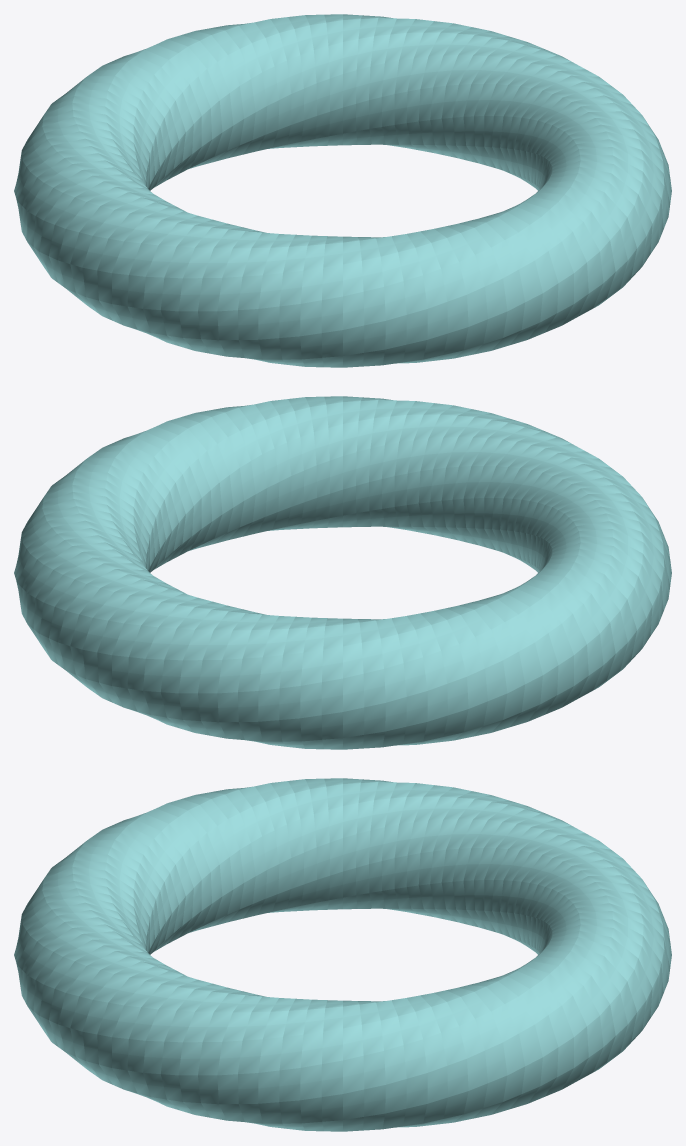
Rendered from TwistedTorus.gltf.
The picture shows the model from 3 angles, top to bottom: view 1: azimuth 30°, elevation 25°; view 2: azimuth 150°, elevation 25°; view 3: azimuth 270°, elevation 25°; orthographic projection.
Visible parts, largest first — view 1: TwistedTorus; view 2: TwistedTorus; view 3: TwistedTorus.
Boxes of the visible parts, x1,y1,x2,y2 form: TwistedTorus: [14, 14, 671, 367]; TwistedTorus: [14, 396, 671, 749]; TwistedTorus: [14, 778, 671, 1131].
Bounding box in the file's own units: 2.5 × 0.5 × 2.5.
